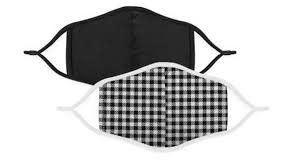cloth_mask: (54, 60, 269, 157)
